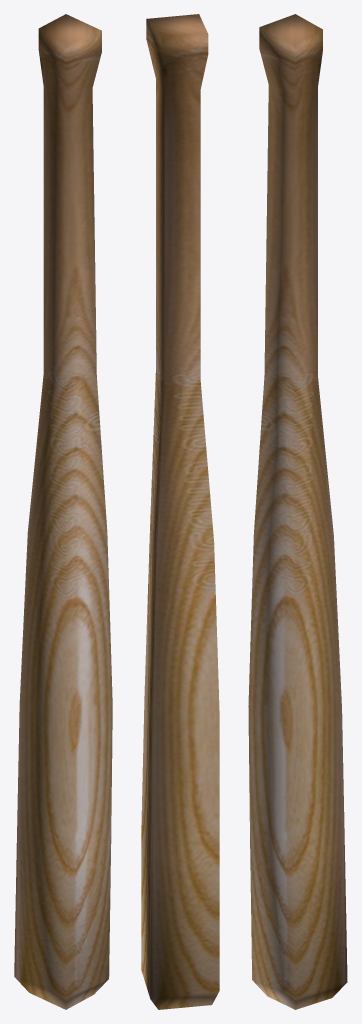
File: SM_BaseballBat00.fbx
3 views of the same model, side by side, from view 1: azimuth 90°, elevation 25°; view 2: azimuth 150°, elevation 25°; view 3: azimuth 270°, elevation 25° (orthographic).
Visible parts, largest first — view 1: SM_BaseballBat00; view 2: SM_BaseballBat00; view 3: SM_BaseballBat00.
Part boxes in pixels (<box>): SM_BaseballBat00: <box>14,14,112,1009</box>; SM_BaseballBat00: <box>141,14,219,1009</box>; SM_BaseballBat00: <box>248,14,347,1009</box>.
Bounding box in the file's own units: 12.96 × 153 × 14.2.
